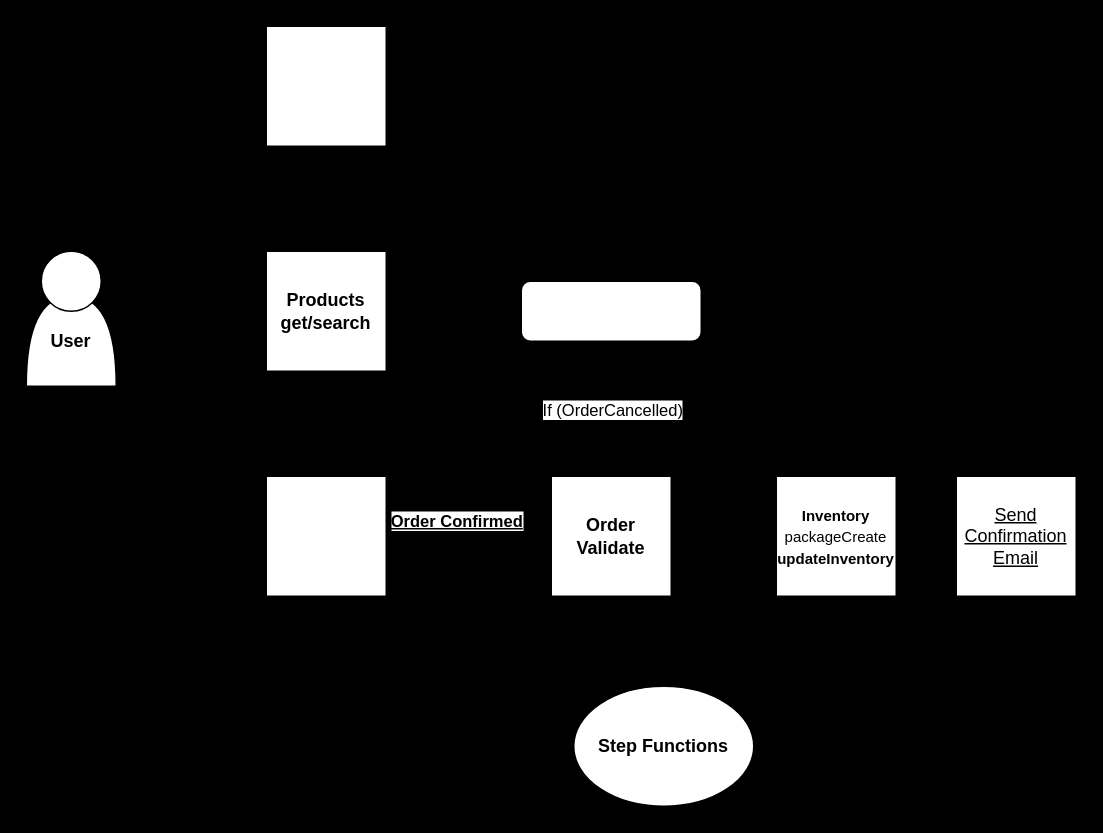
Some shapes in this 1103 by 833 pixel diagram are drawn without their labels. The centre of each missing label's shape, as x and y in pixels:
Orders createOrders: the point at 325,535
UpdateInventory: the point at 610,310
Users signup/login: the point at 325,85
